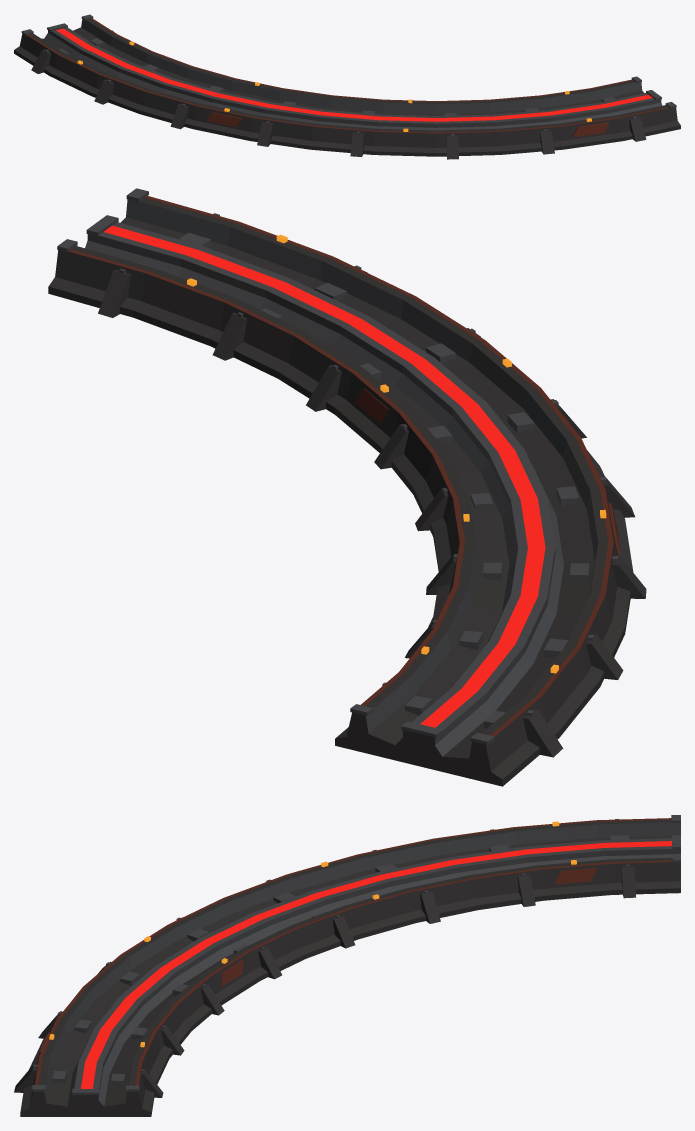
The model's file is maglev_track_curve.glb.
3 views of the same model, one above another, from view 1: azimuth 30°, elevation 25°; view 2: azimuth 150°, elevation 25°; view 3: azimuth 270°, elevation 25° (orthographic). The views are drawn at different scales.
Visible parts, largest first — view 1: track_curve; view 2: track_curve; view 3: track_curve.
Part boxes in pixels (x1=…): track_curve: x1=14, y1=14, x2=680, y2=159; track_curve: x1=48, y1=188, x2=646, y2=786; track_curve: x1=14, y1=815, x2=680, y2=1116.
Bounding box in the file's own units: 22.42 × 1.06 × 22.42.
